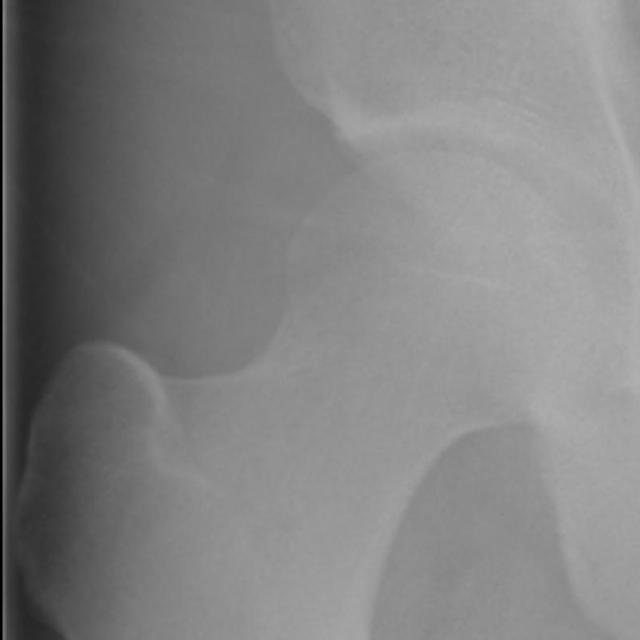Fitted_femural_head: (315, 151, 432, 315)
